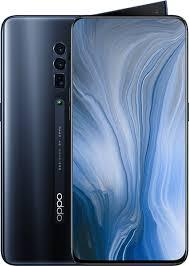Smartphone: (73, 12, 181, 260), (1, 17, 71, 261)
